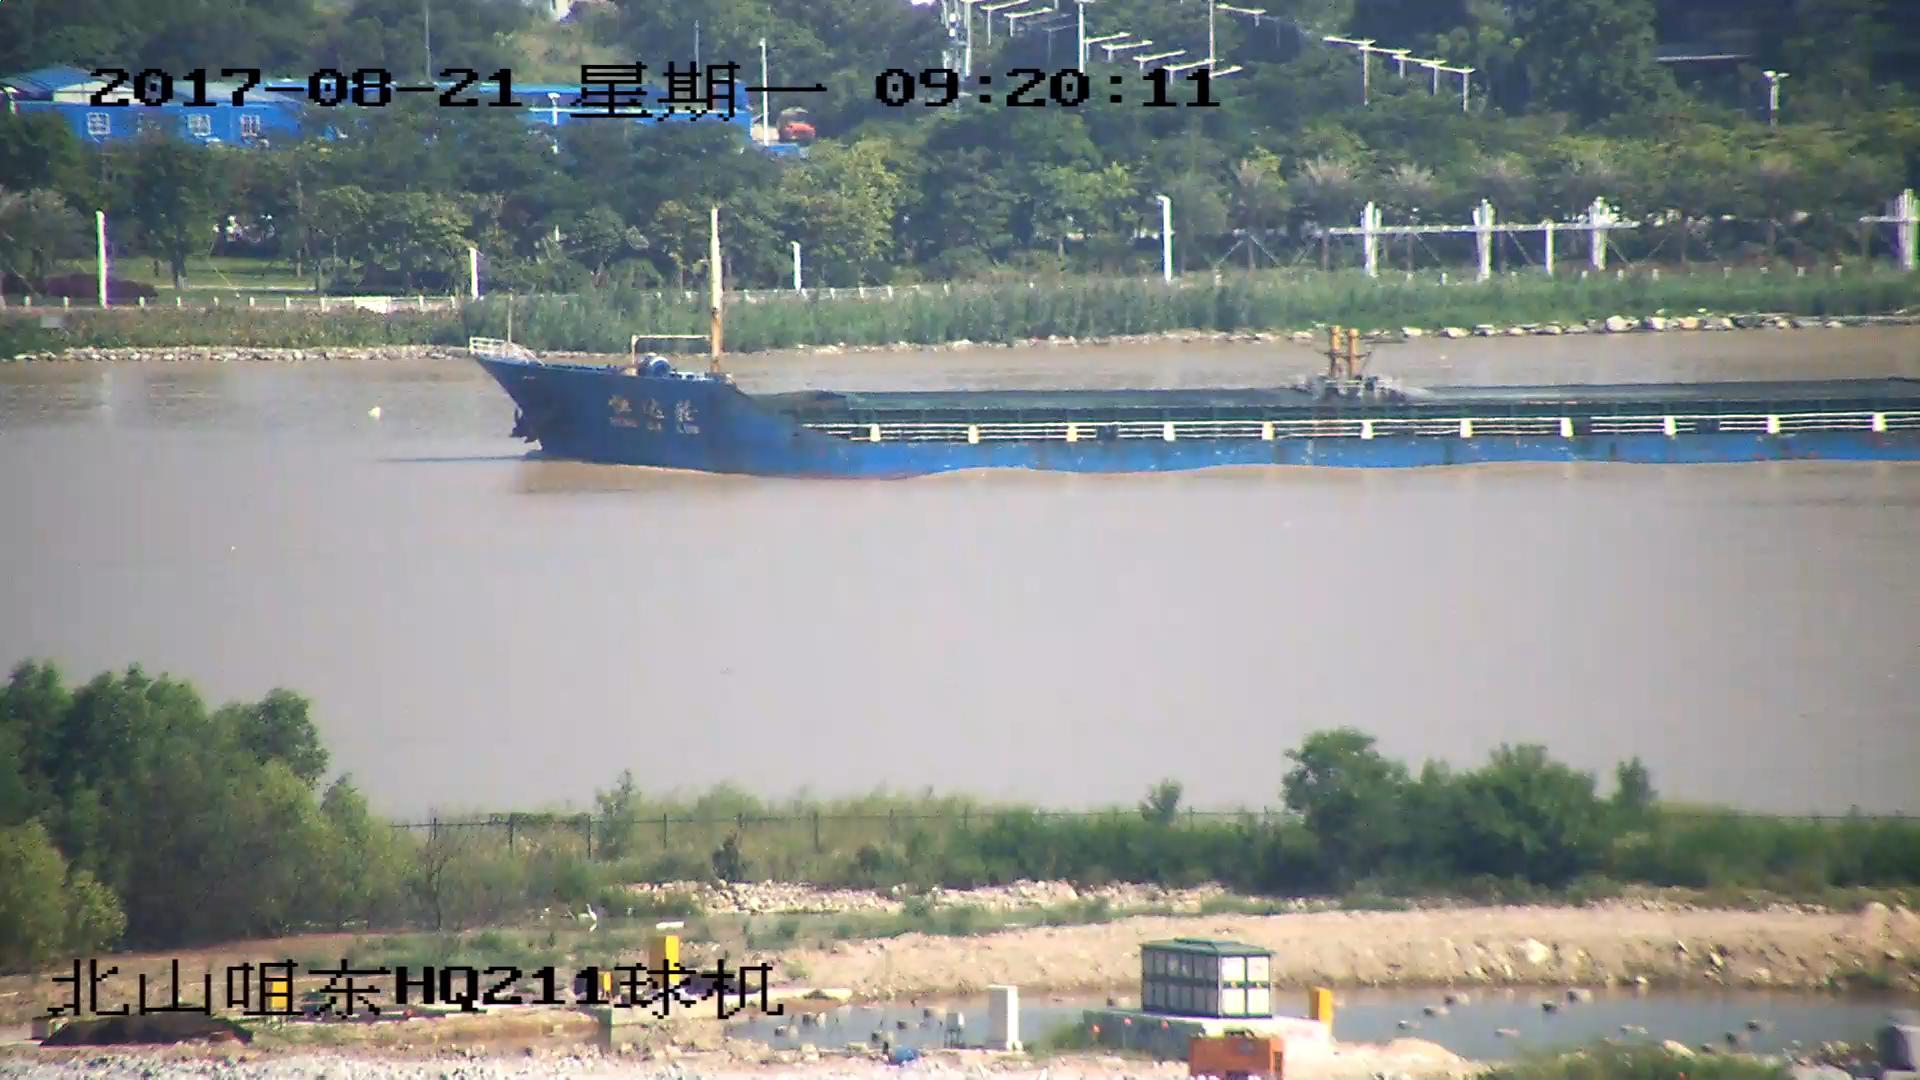Ship: (458, 204, 1920, 481)
